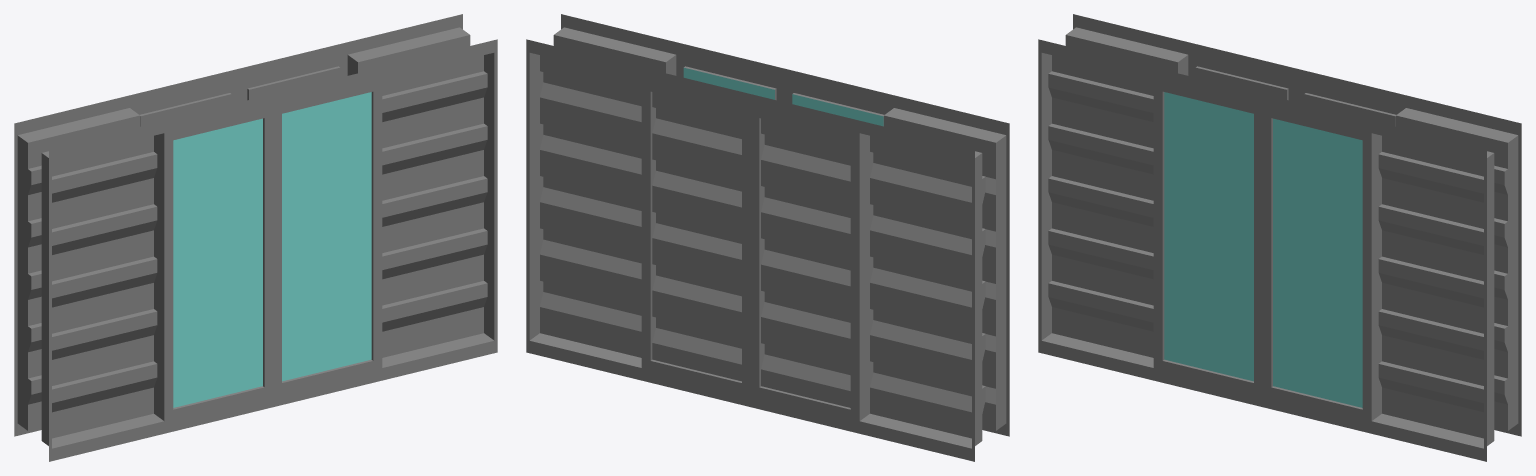
File: MESH_ENV(Janela_01_1,5x1).fbx
The picture shows the model from 3 angles, left to right: view 1: azimuth 30°, elevation 25°; view 2: azimuth 150°, elevation 25°; view 3: azimuth 330°, elevation 25°; orthographic projection.
Parts seen in each view (by area): view 1: MESH_ENV(Janela_01_1,5x1)_LOD0; view 2: MESH_ENV(Janela_01_1,5x1)_LOD0; view 3: MESH_ENV(Janela_01_1,5x1)_LOD0.
Boxes of the visible parts, left/top/right/bottom form: MESH_ENV(Janela_01_1,5x1)_LOD0: left=14, top=14, right=497, bottom=461; MESH_ENV(Janela_01_1,5x1)_LOD0: left=526, top=14, right=1009, bottom=461; MESH_ENV(Janela_01_1,5x1)_LOD0: left=1038, top=14, right=1521, bottom=461.
Size of what is drawn, in the model's own units: 150 by 100 by 20.
